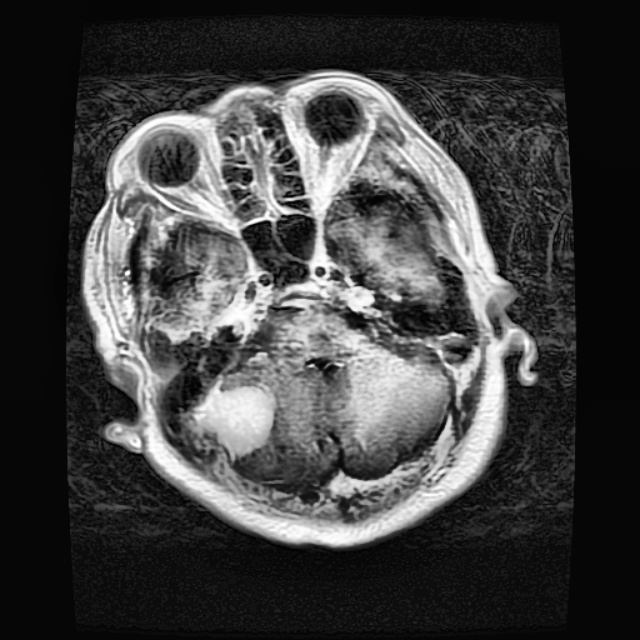Pituitary: (194, 380, 274, 459)
